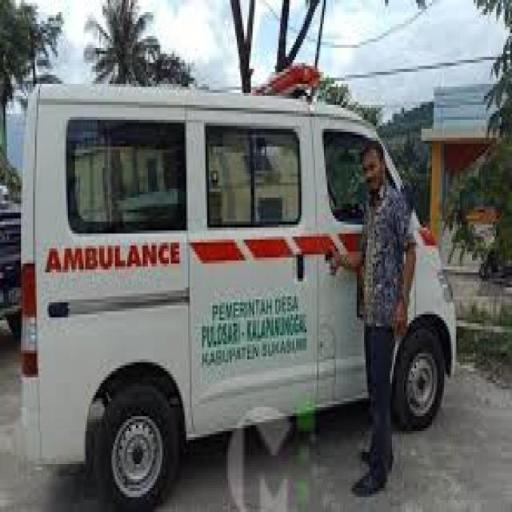Police car: (21, 63, 454, 509)
